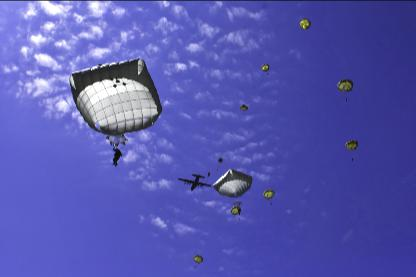Be200: (178, 170, 212, 190)
